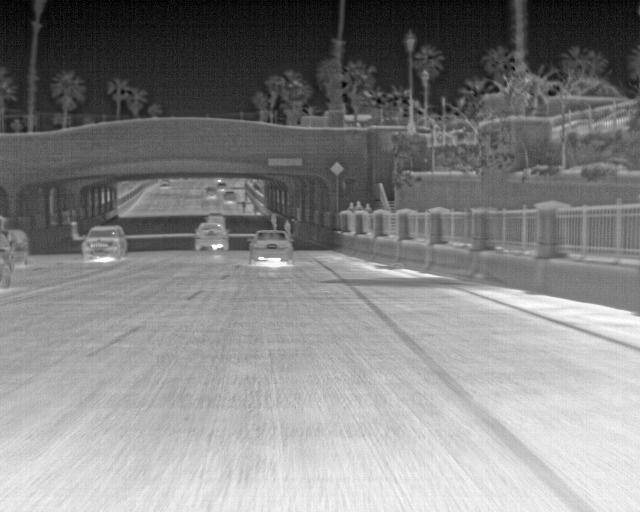bicycle: (245, 227, 293, 266), (81, 221, 126, 261), (193, 224, 231, 254), (220, 188, 239, 207), (203, 212, 227, 225)
empty: (353, 198, 366, 212), (347, 200, 359, 213), (363, 202, 374, 212)
